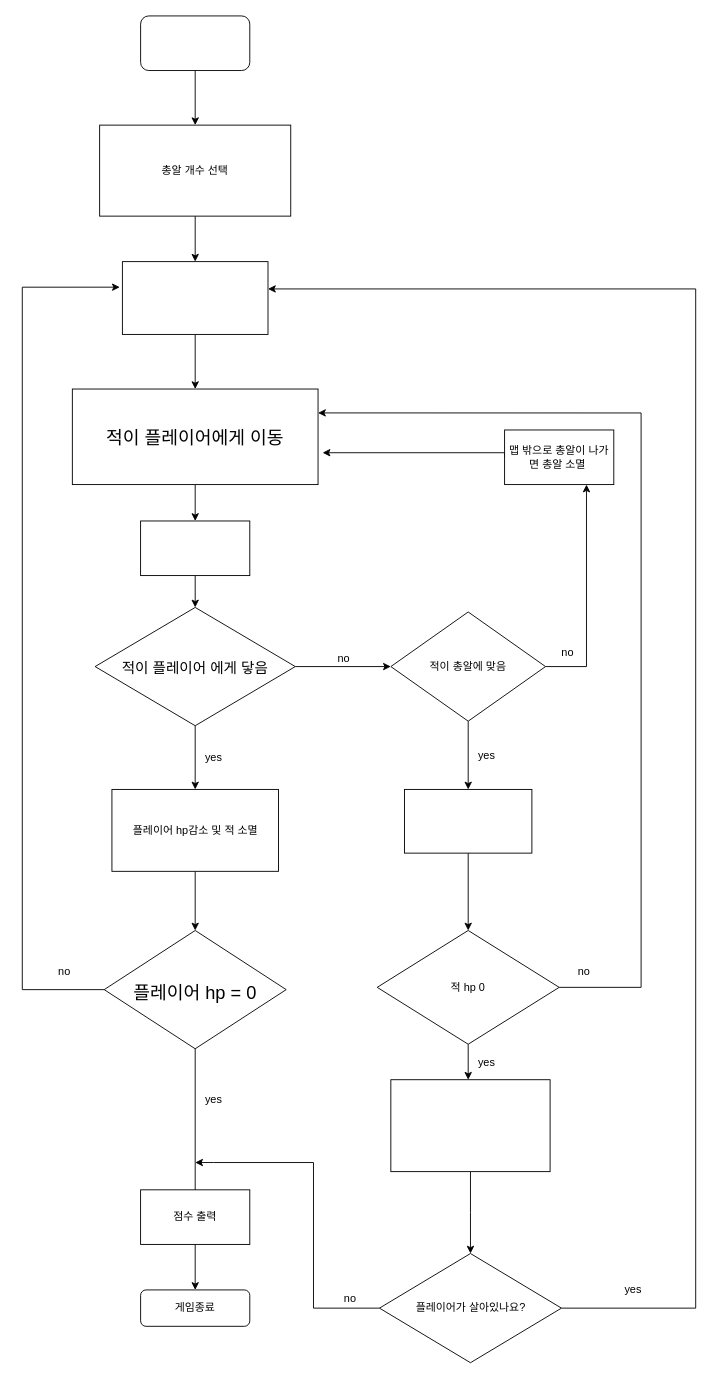
This 719x1379 diagram has some shape labels left out. Here are the shapes that lost their labels. From the top down, the centre of each, then its label:
At (195,43): "게임 시작".
At (194,297): "적 생성".
At (195,548): "클릭 시 총알 발사".
At (468,821): "총알 소멸 및 적 hp 감소 ,크기감소".
At (470,1125): "점수 획득".
